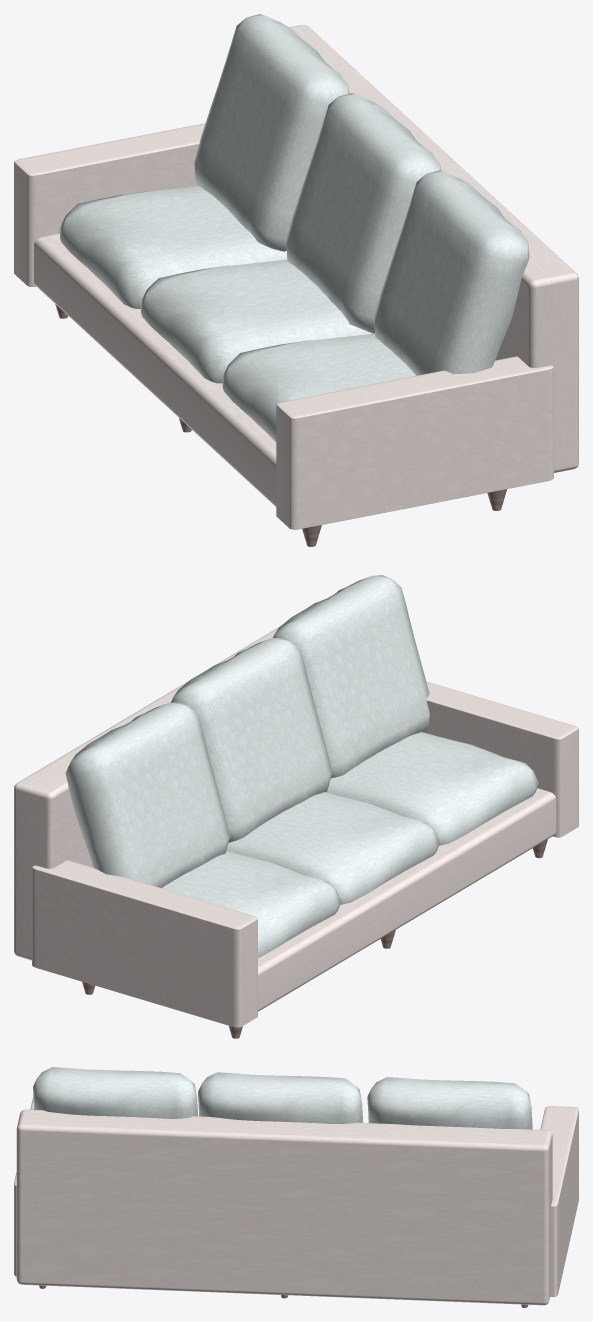
The model's file is sofa 1.fbx.
3 renders of one model, top to bottom at view 1: azimuth 30°, elevation 25°; view 2: azimuth 150°, elevation 25°; view 3: azimuth 270°, elevation 25°, orthographic. The views are drawn at different scales.
Visible parts, largest first — view 1: polySurface11, pCube6, pCube4, pCube5, polySurface12, pCube2, pCube1, polySurface1, polySurface10, pCube3; view 2: polySurface10, pCube4, pCube5, pCube6, polySurface12, pCube3, pCube2, polySurface11, pCube1, polySurface1; view 3: polySurface1, pCube4, pCube5, pCube6, polySurface10, polySurface11.
Boxes of the visible parts, x1,y1,x2,y2 form: polySurface11: (276, 356, 553, 529); pCube6: (374, 170, 529, 375); pCube4: (194, 14, 349, 251); pCube5: (286, 93, 440, 333); polySurface12: (34, 234, 276, 506); pCube2: (140, 259, 372, 383); pCube1: (59, 186, 287, 308); polySurface1: (289, 25, 578, 472); polySurface10: (14, 123, 205, 286); pCube3: (222, 333, 415, 442); polySurface10: (32, 860, 257, 1027); pCube4: (65, 702, 229, 887); pCube5: (171, 637, 332, 842); pCube6: (273, 575, 429, 778); polySurface12: (258, 788, 556, 1011); pCube3: (327, 732, 538, 845); pCube2: (226, 792, 439, 904); polySurface11: (423, 681, 578, 837); pCube1: (162, 851, 341, 957); polySurface1: (14, 594, 334, 960); polySurface1: (16, 1109, 552, 1305); pCube4: (367, 1077, 532, 1129); pCube5: (198, 1072, 363, 1123); pCube6: (33, 1067, 197, 1118); polySurface10: (540, 1106, 578, 1296); polySurface11: (14, 1096, 33, 1276).
Bounding box in the file's own units: 235 × 184 × 428.
Materials: 3 (3 with a texture image).
